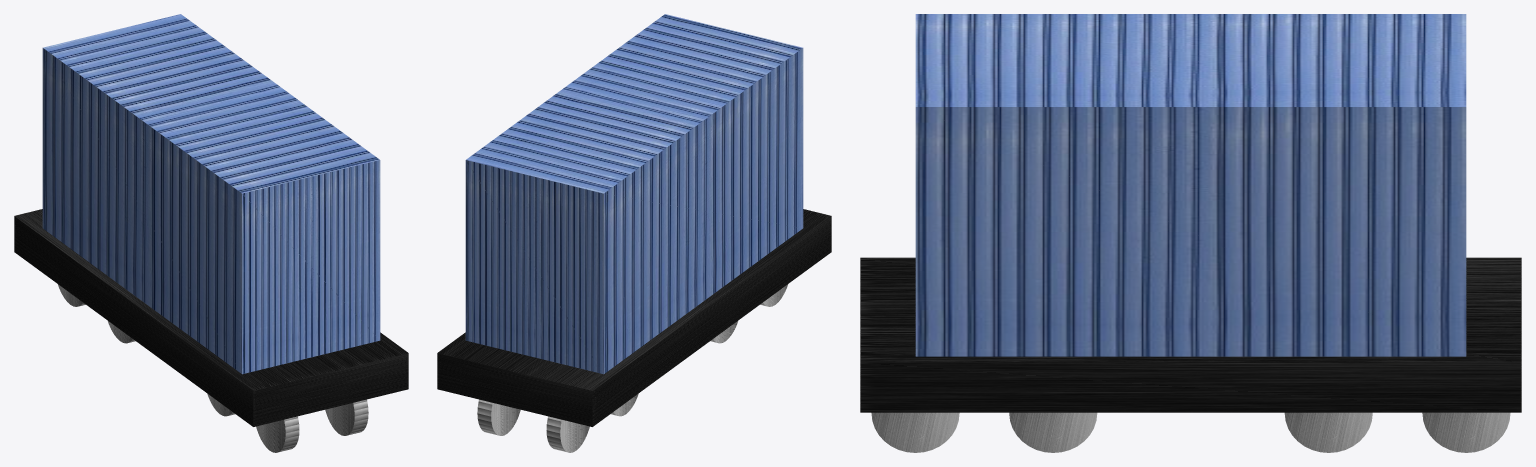
File: wagon2.fbx
3 renders of one model, left to right at view 1: azimuth 30°, elevation 25°; view 2: azimuth 150°, elevation 25°; view 3: azimuth 270°, elevation 25°, orthographic. The views are drawn at different scales.
Visible parts, largest first — view 1: Cube, Cube.001, Cylinder.006, Cylinder.005; view 2: Cube, Cube.001, Cylinder.012, Cylinder.011; view 3: Cube, Cube.001, Cylinder.007, Cylinder.010, Cylinder.005, Cylinder.011.
Boxes of the visible parts, <box> form: Cube: <box>42,14,380,374</box>; Cube.001: <box>14,209,408,426</box>; Cylinder.006: <box>256,416,299,452</box>; Cylinder.005: <box>325,399,368,435</box>; Cube: <box>465,14,803,374</box>; Cube.001: <box>437,209,831,426</box>; Cylinder.012: <box>546,416,589,452</box>; Cylinder.011: <box>477,399,520,435</box>; Cube: <box>915,14,1466,356</box>; Cube.001: <box>860,257,1521,412</box>; Cylinder.007: <box>1009,412,1097,452</box>; Cylinder.010: <box>1284,412,1372,452</box>; Cylinder.005: <box>871,412,959,452</box>; Cylinder.011: <box>1422,412,1510,452</box>.
Size of the model in its own units: 225 by 365 by 600.
10 materials, 10 textured.
